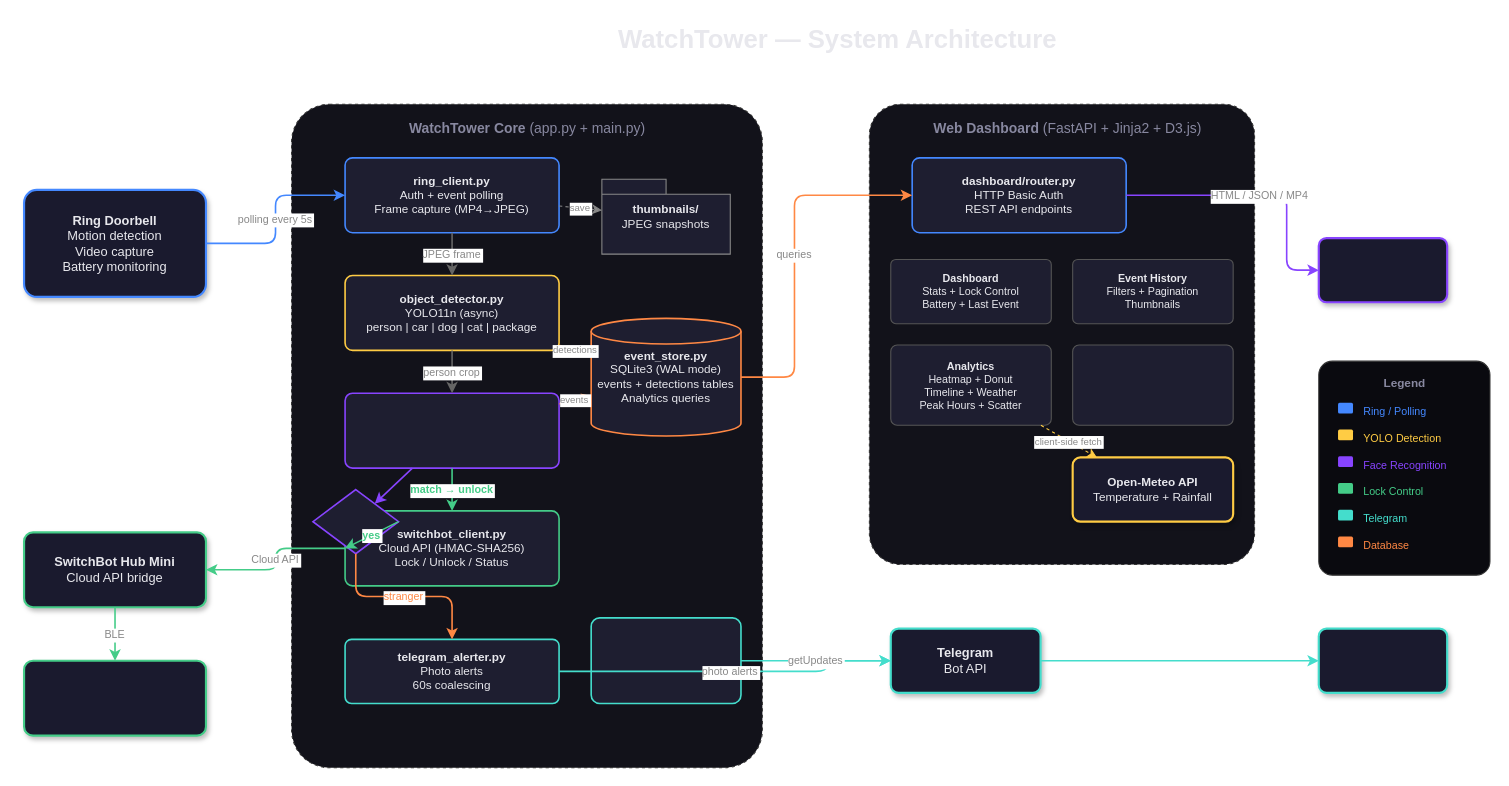
Image size: 1509x786. Some labels were removed from this diagram. The shapes that lost their labels are listed below. From the top down, each one's centre as x and y in pixels, then its label:
point (1383, 271): Browser User
point (1152, 384): Timelapse Date picker → FFmpeg MP4 generation
point (451, 430): face_recognizer.py dlib HOG + 128D encoding Match against known_faces/
point (355, 521): Known face?
point (665, 660): telegram_commands.py /status /lock /unlock /snap /events /mute
point (1383, 662): Phone Telegram
point (115, 699): SwitchBot Lock Lock / Unlock
